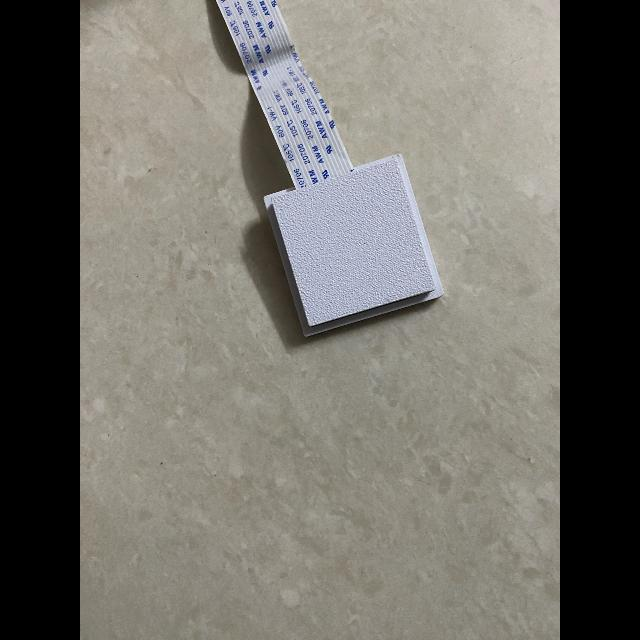RASPBERY PI CAM ENCLOSURE: (264, 153, 444, 337)
